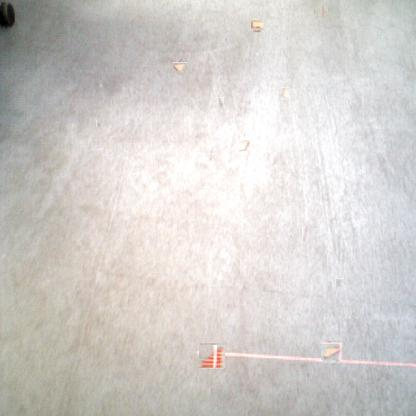dirty: (199, 344, 225, 368), (322, 342, 341, 362), (238, 139, 250, 151), (251, 19, 263, 31), (280, 88, 291, 100), (315, 5, 327, 16), (175, 61, 186, 72)
mark: (302, 226, 309, 244), (217, 97, 224, 110), (335, 278, 344, 287), (208, 153, 214, 162), (96, 119, 101, 128)
